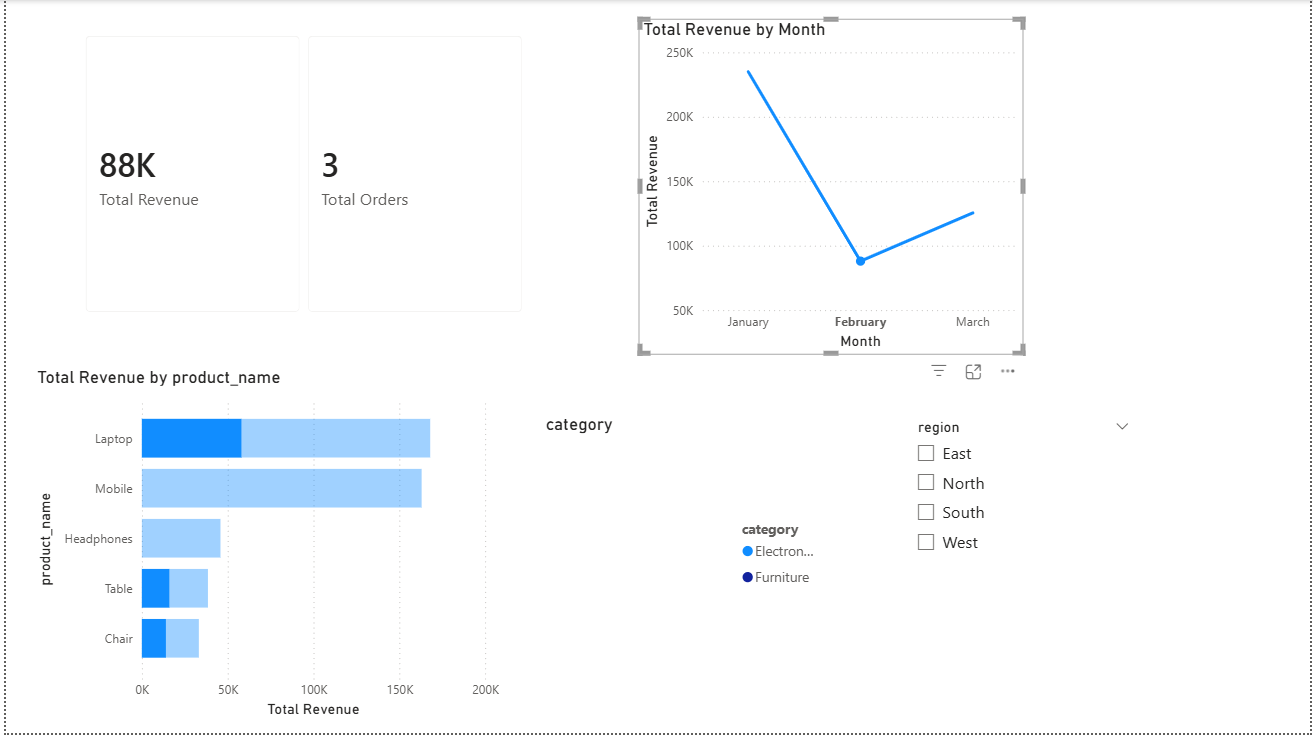

What the dashboard file says about the page in this screenshot:
{"tool":"powerbi","page":{"name":"Page 1","canvas":[1280,720],"ordinal":0},"visuals":[{"type":"lineChart","fields":{"Category":["sales.order_date.Variation.Date Hierarchy.Month"],"Y":["sales.Total Revenue"]},"box":[621.2,18.8,377.5,330],"z":3},{"type":"clusteredBarChart","fields":{"Category":["sales.product_name"],"Y":["sales.Total Revenue"]},"box":[26.2,360,463.8,350],"z":5},{"type":"pieChart","fields":{"Category":["sales.category"]},"box":[525,406.2,285,257.5],"z":6},{"type":"slicer","fields":{"Values":["sales.region"]},"box":[882.5,406.2,232.5,250],"z":7},{"type":"cardVisual","fields":{"Data":["sales.Total Revenue","sales.Total Orders"]},"box":[61.2,18.8,463.8,305],"z":8}]}

Visuals, with their boxes in screenshot pixels (x1, y1, x2, y2), scaled from the page's 1280x720 canvas onto the 1313x738 screenshot:
lineChart - sales.order_date.Variation.Date Hierarchy.Month x sales.Total Revenue: crop(637, 19, 1024, 358)
clusteredBarChart - sales.product_name x sales.Total Revenue: crop(27, 369, 503, 728)
pieChart - sales.category: crop(539, 416, 831, 680)
slicer - sales.region: crop(905, 416, 1144, 673)
cardVisual - sales.Total Revenue x sales.Total Orders: crop(63, 19, 539, 332)
